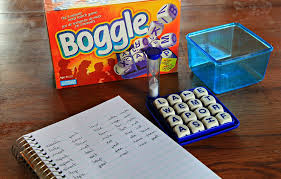boggle: (144, 85, 240, 147)
